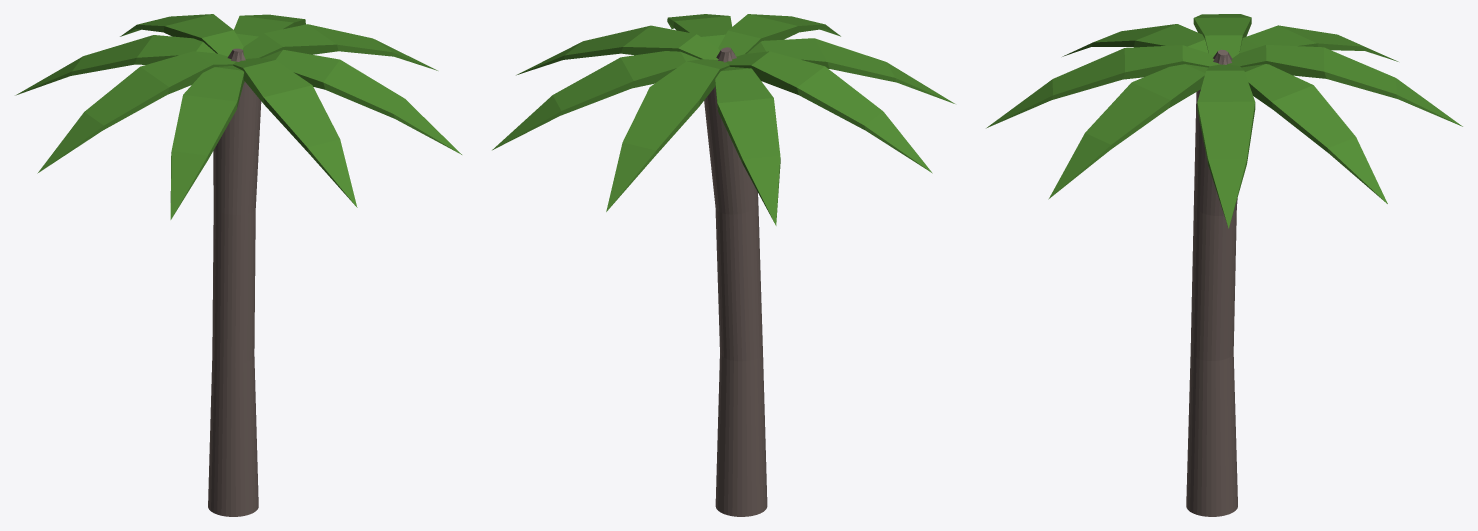
Rendered from Palm Tree.fbx.
3 views of the same model, side by side, from view 1: azimuth 30°, elevation 25°; view 2: azimuth 150°, elevation 25°; view 3: azimuth 270°, elevation 25° (orthographic).
Visible parts, largest first — view 1: Oasis I; view 2: Oasis I; view 3: Oasis I.
Part boxes in pixels (left/top/right/bottom): Oasis I: left=15, top=14, right=461, bottom=516; Oasis I: left=492, top=14, right=954, bottom=516; Oasis I: left=986, top=14, right=1462, bottom=516.
Size of the model in its own units: 393 by 415 by 393.
